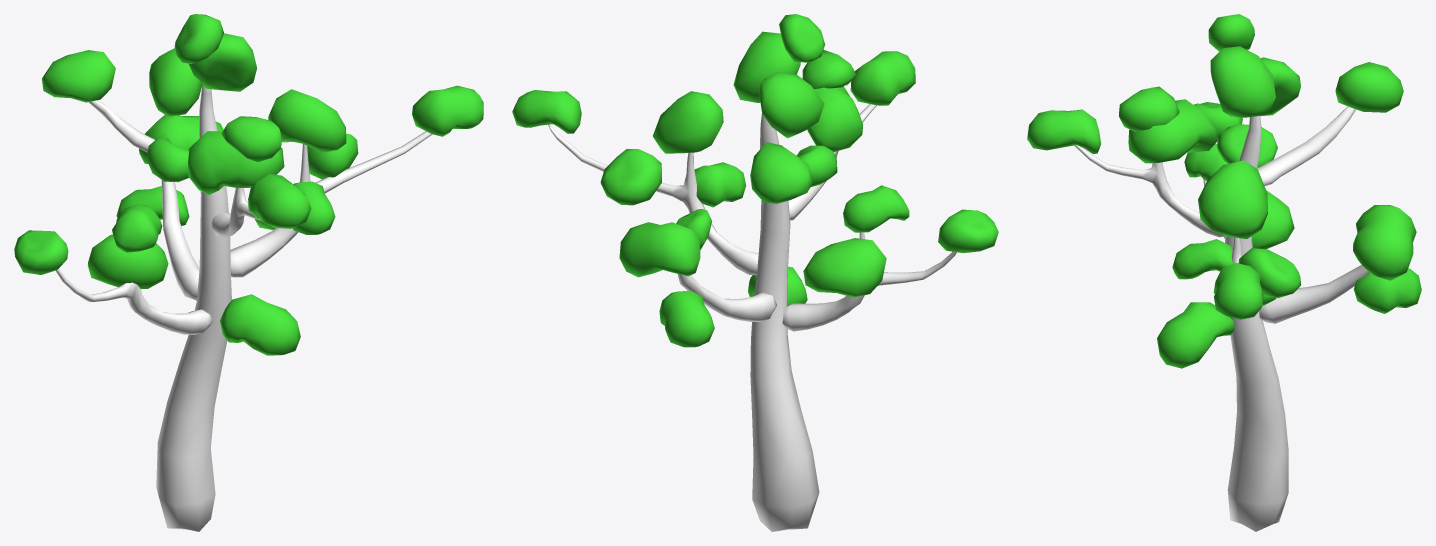
Rendered from tree_03.fbx.
3 renders of one model, left to right at view 1: azimuth 30°, elevation 25°; view 2: azimuth 150°, elevation 25°; view 3: azimuth 270°, elevation 25°, orthographic. The views are drawn at different scales.
Parts seen in each view (by area): view 1: tree_03; view 2: tree_03; view 3: tree_03.
Boxes of the visible parts, bbox=[...] form: tree_03: bbox=[14, 14, 483, 531]; tree_03: bbox=[512, 14, 998, 531]; tree_03: bbox=[1027, 14, 1421, 531].
Bounding box in the file's own units: 408 × 426 × 296.
